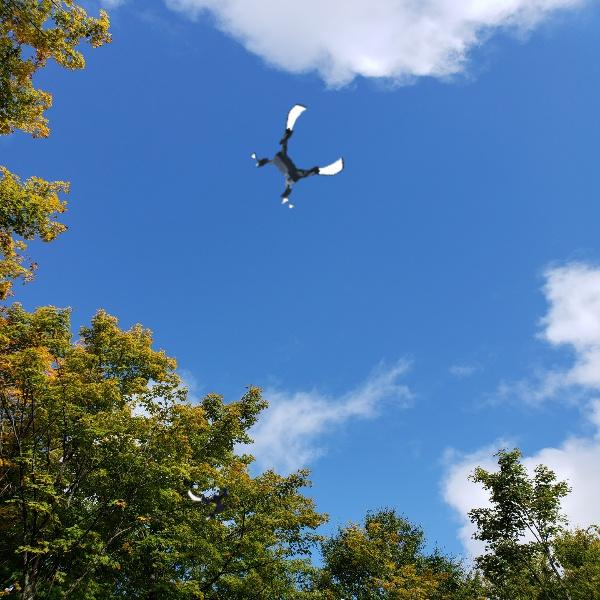drone: (250, 113, 342, 205), (190, 472, 243, 525)
